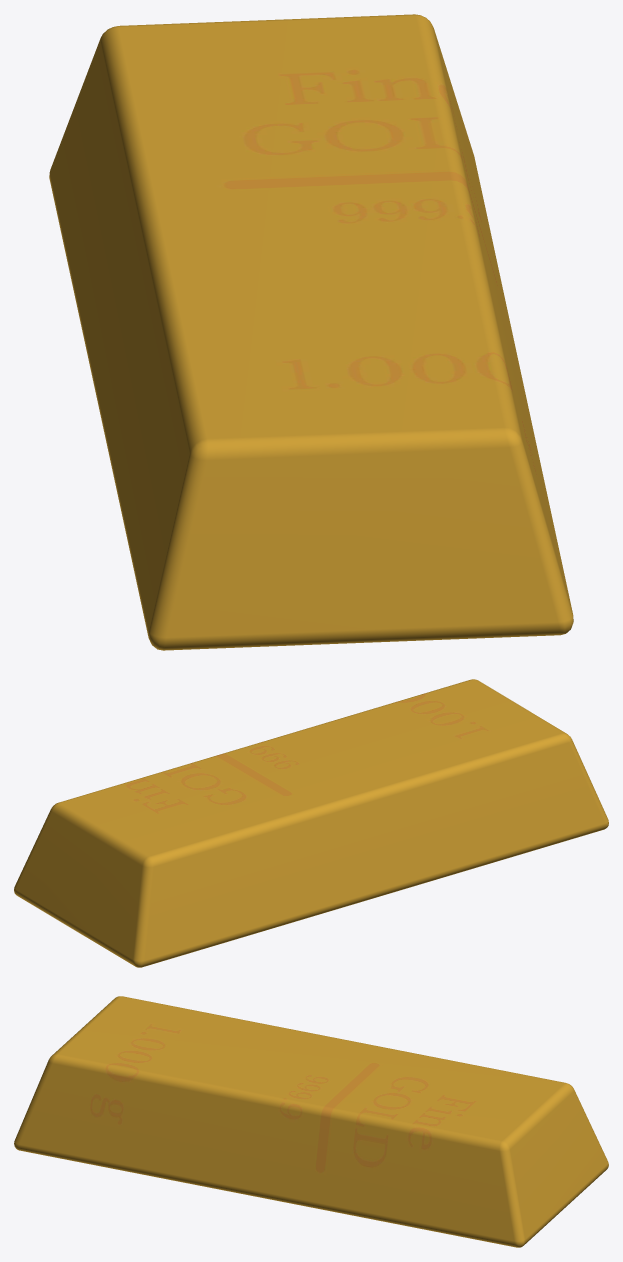
The model's file is gold bar single.fbx.
The picture shows the model from 3 angles, top to bottom: view 1: azimuth 30°, elevation 25°; view 2: azimuth 150°, elevation 25°; view 3: azimuth 270°, elevation 25°; orthographic projection. The views are drawn at different scales.
Parts seen in each view (by area): view 1: pCube1; view 2: pCube1; view 3: pCube1.
Part boxes in pixels (<box>): pCube1: <box>49,14,573,650</box>; pCube1: <box>14,679,608,967</box>; pCube1: <box>14,996,608,1247</box>.
Bounding box in the file's own units: 7.38 × 1.76 × 10.34.
Materials: 1 (1 with a texture image).
